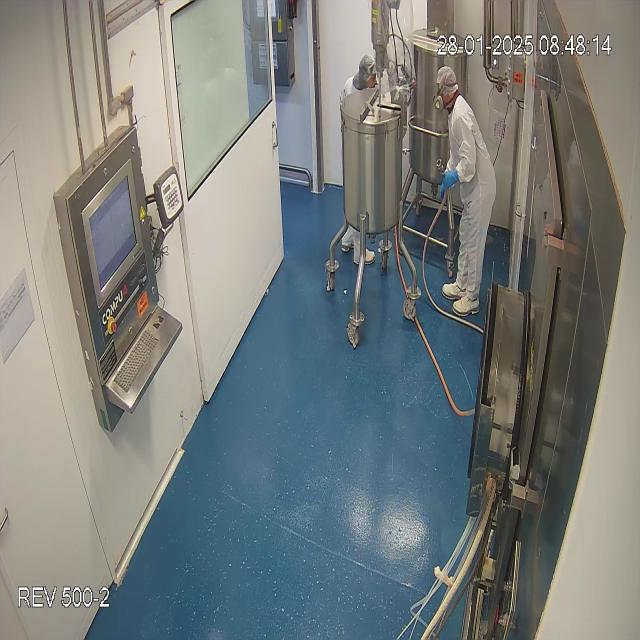bota: (438, 280, 482, 320), (339, 231, 381, 268)
pessoa: (435, 66, 500, 318), (338, 53, 381, 270)
touca: (432, 63, 463, 103), (353, 52, 380, 94)
